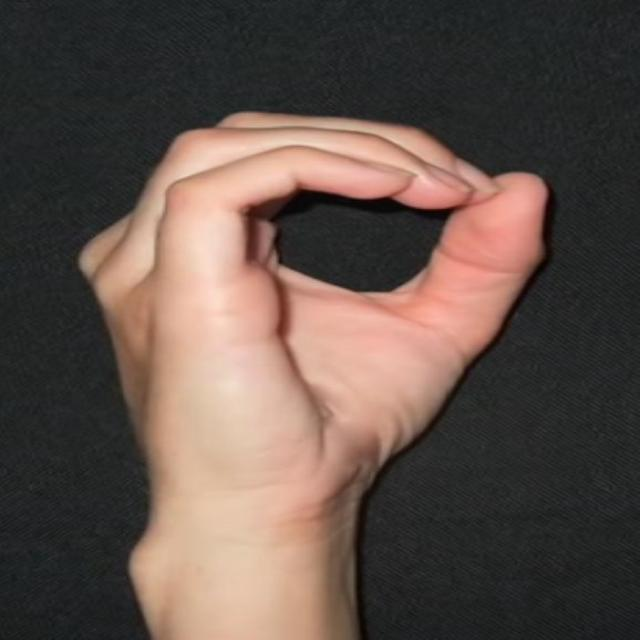O: (71, 104, 563, 492)
